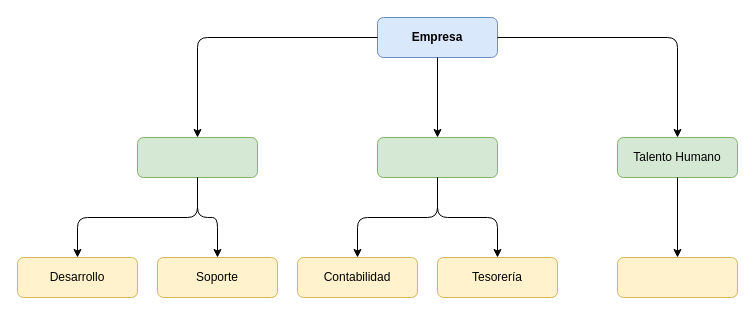
Image size: 755x315. Some labels were removed from this diagram. The centre of each missing label's shape, as x and y in pixels:
Finanzas: the point at 437,157
Selección: the point at 677,277
Tecnología: the point at 197,157
